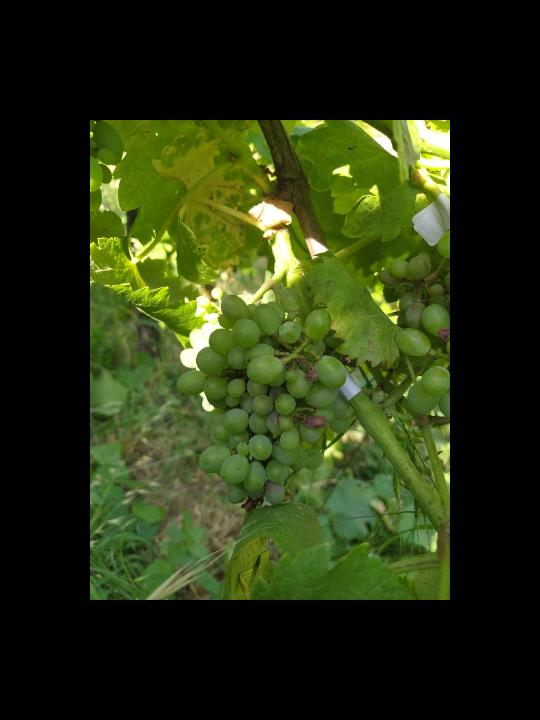grape: (175, 285, 351, 510)
